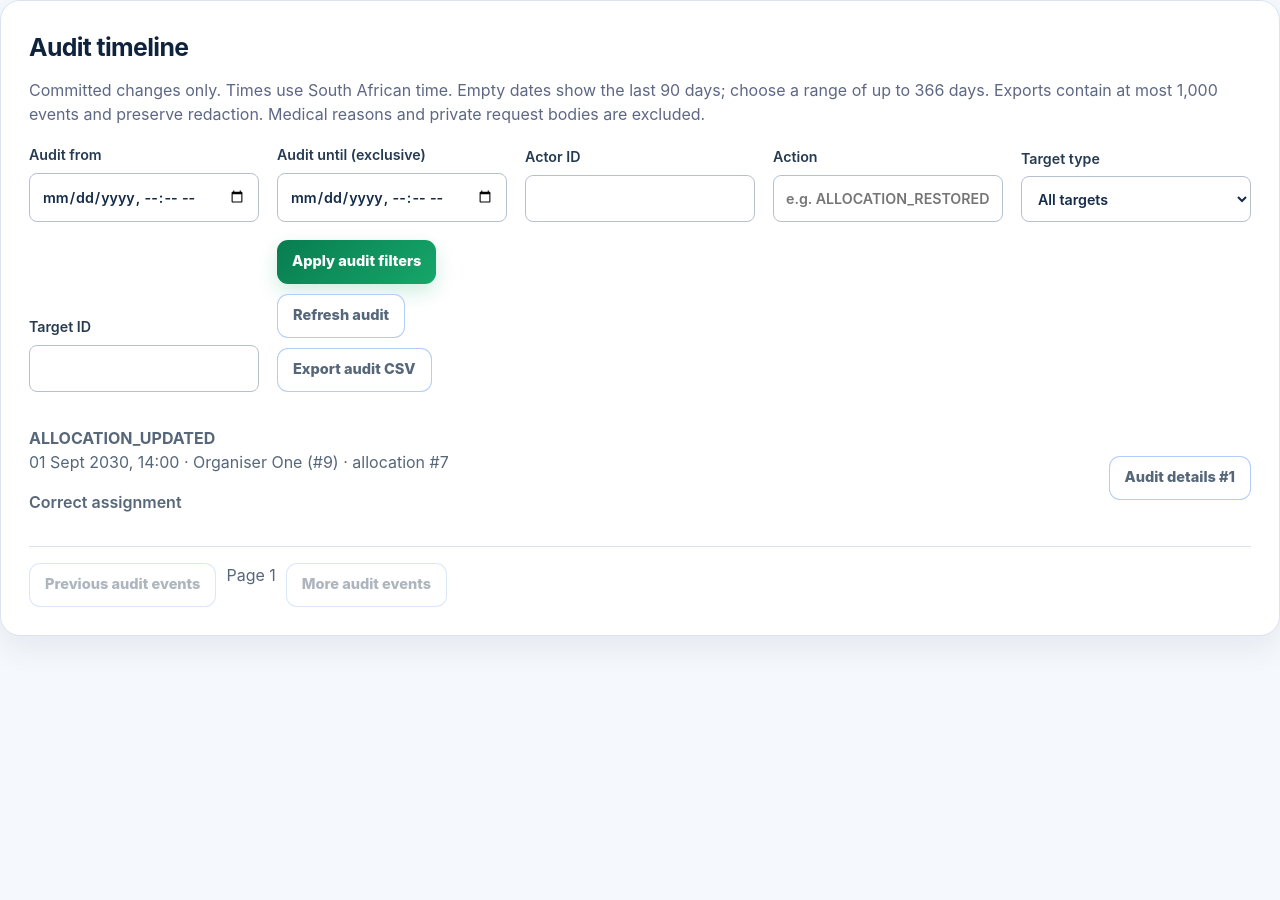
Test: shows actor/action/target context and redacted before/after detail
Click the button "Audit details #1" at x=1180, y=478, box [1108, 456, 1251, 500]
(page scrolled)
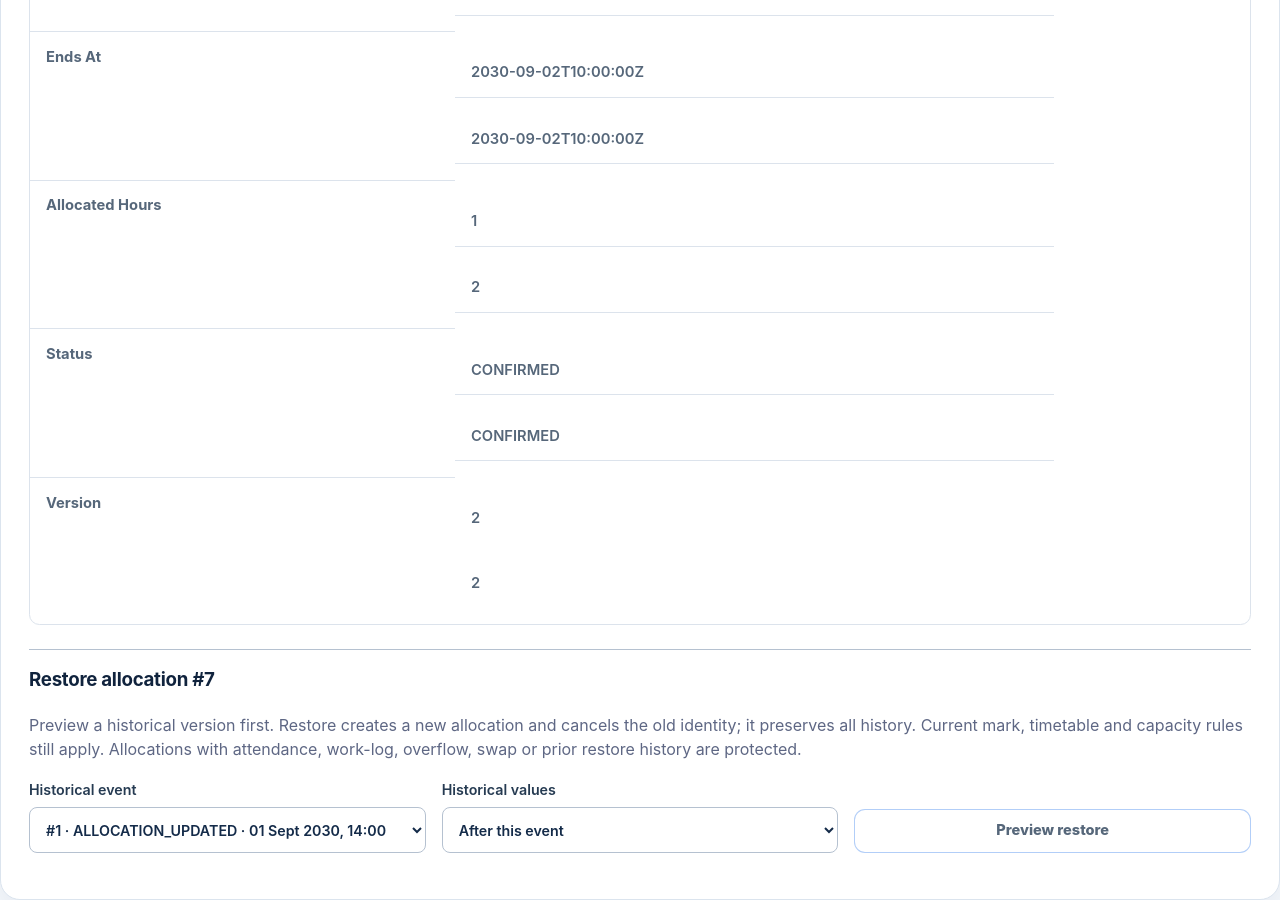
Expected: the element named "Audit before and after" shows "Allocated Hours", [46, 196, 162, 214]
Expected: the button "Preview restore" is enabled, [854, 809, 1251, 853]
